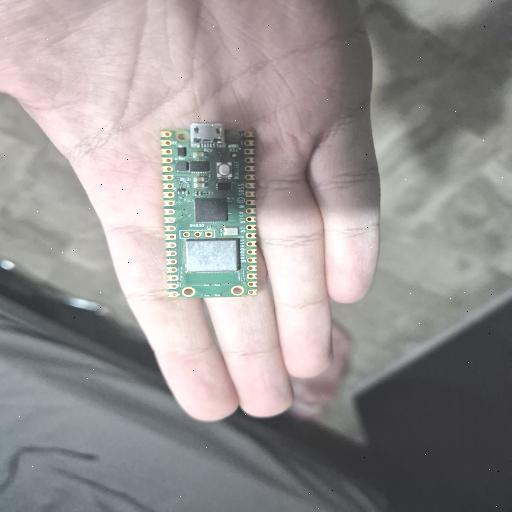raspberry-pi-pico-w: (161, 123, 258, 298)
